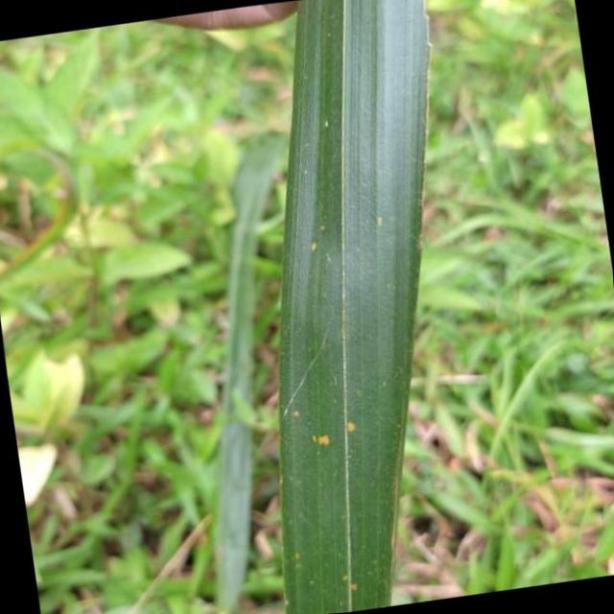Boron: (283, 0, 438, 614)
